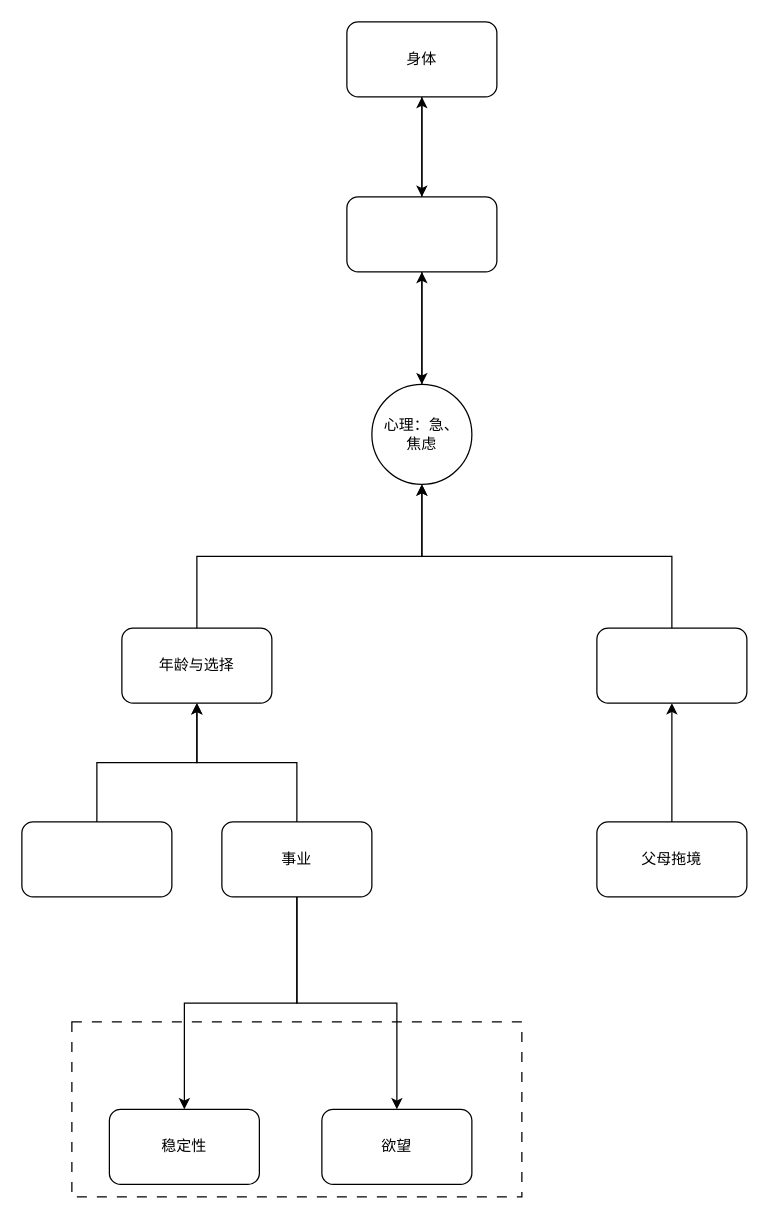
The diagram is 769 pixels wide and 1219 high, and some of its shapes have lost their labels. The box of each missing label's shape, as (x1, y1, x2, y2) in pixels:
婚姻: (21, 821, 172, 897)
家庭命运、荣誉感: (596, 627, 747, 703)
情绪、压力: (346, 196, 497, 272)
